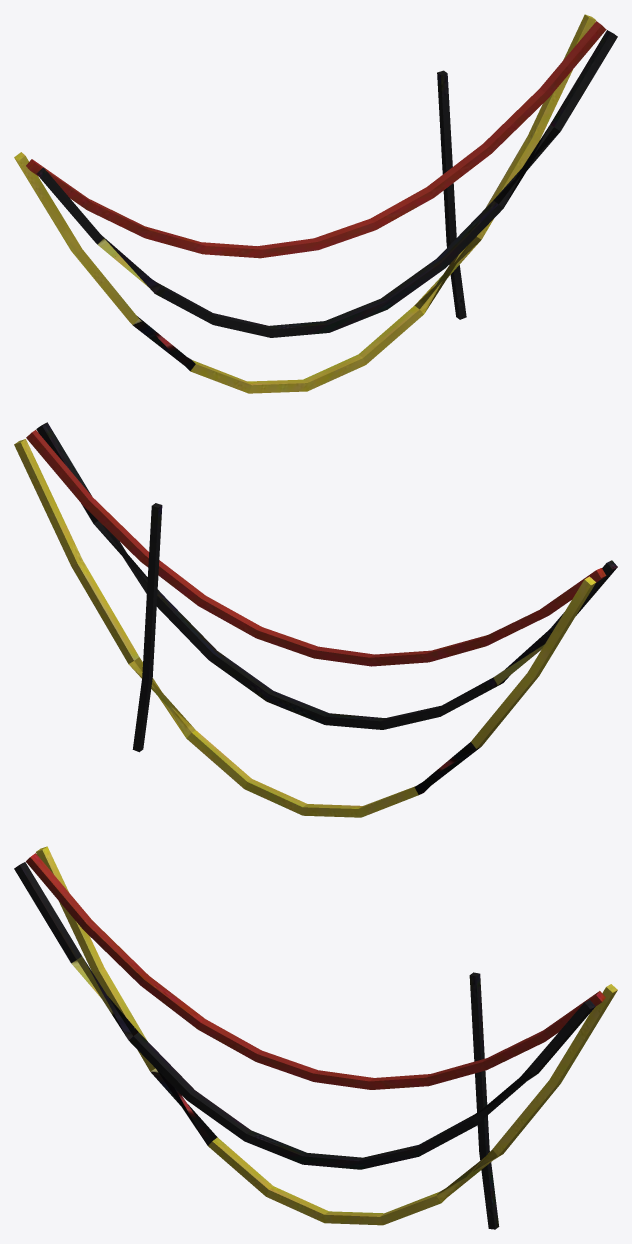
Rendered from cable_hanging_idle.glb.
3 views of the same model, one above another, from view 1: azimuth 30°, elevation 25°; view 2: azimuth 150°, elevation 25°; view 3: azimuth 330°, elevation 25° (orthographic).
Visible parts, largest first — view 1: cable_hanging; view 2: cable_hanging; view 3: cable_hanging.
Part boxes in pixels (left/top/right/bottom): cable_hanging: left=14, top=14, right=617, bottom=393; cable_hanging: left=14, top=422, right=617, bottom=817; cable_hanging: left=14, top=846, right=617, bottom=1229.
Bounding box in the file's own units: 1.22 × 0.6156 × 0.1167.
1 material, 1 textured.
